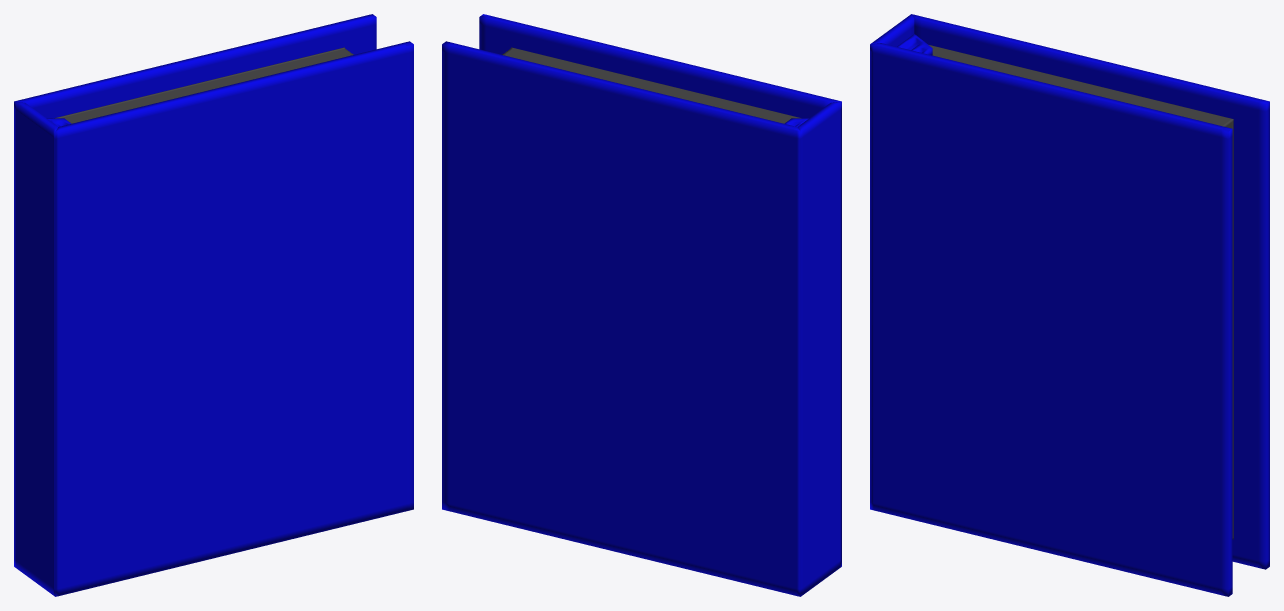
Rendered from kalın dosya.fbx.
3 renders of one model, left to right at view 1: azimuth 30°, elevation 25°; view 2: azimuth 150°, elevation 25°; view 3: azimuth 330°, elevation 25°, orthographic.
Visible parts, largest first — view 1: binder:h_release2; view 2: binder:h_release2; view 3: binder:h_release2.
Part boxes in pixels (x1=…): binder:h_release2: x1=14, y1=14, x2=413, y2=596; binder:h_release2: x1=442, y1=14, x2=841, y2=596; binder:h_release2: x1=870, y1=14, x2=1269, y2=596.
Bounding box in the file's own units: 0.25 × 0.31 × 0.05.
